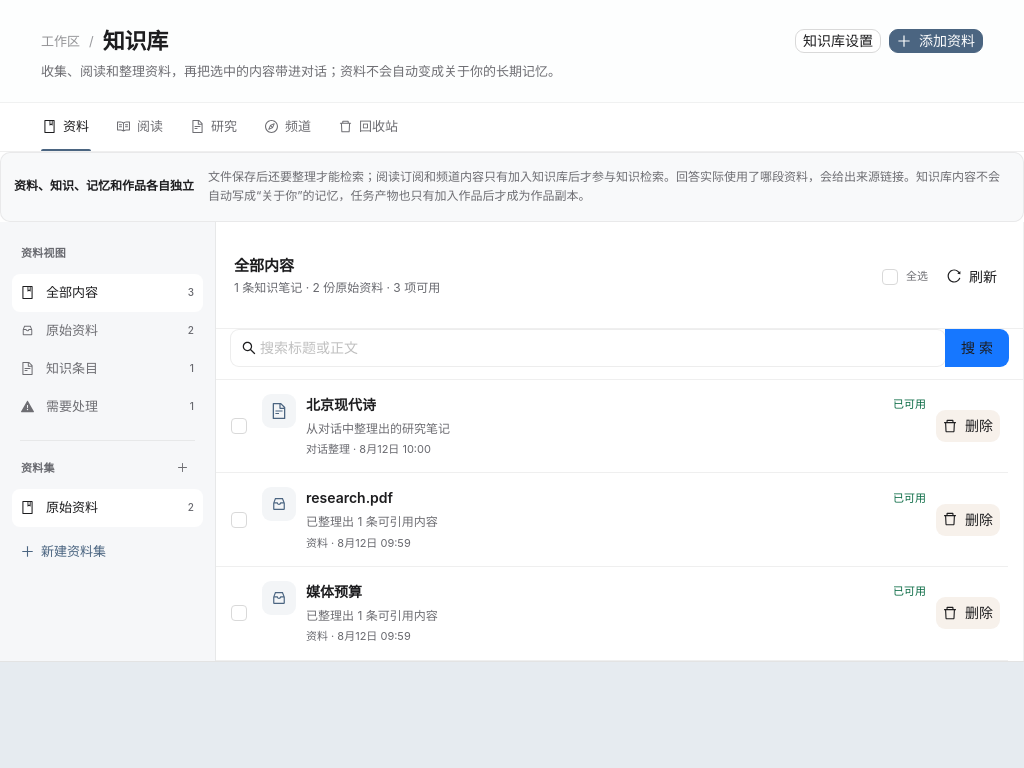
it: Knowledge workspace › does not offer a blind retry when a web import result is unknown
Click the button "添加资料" at coordinates (936, 41), box left=889, top=29, right=983, bottom=53
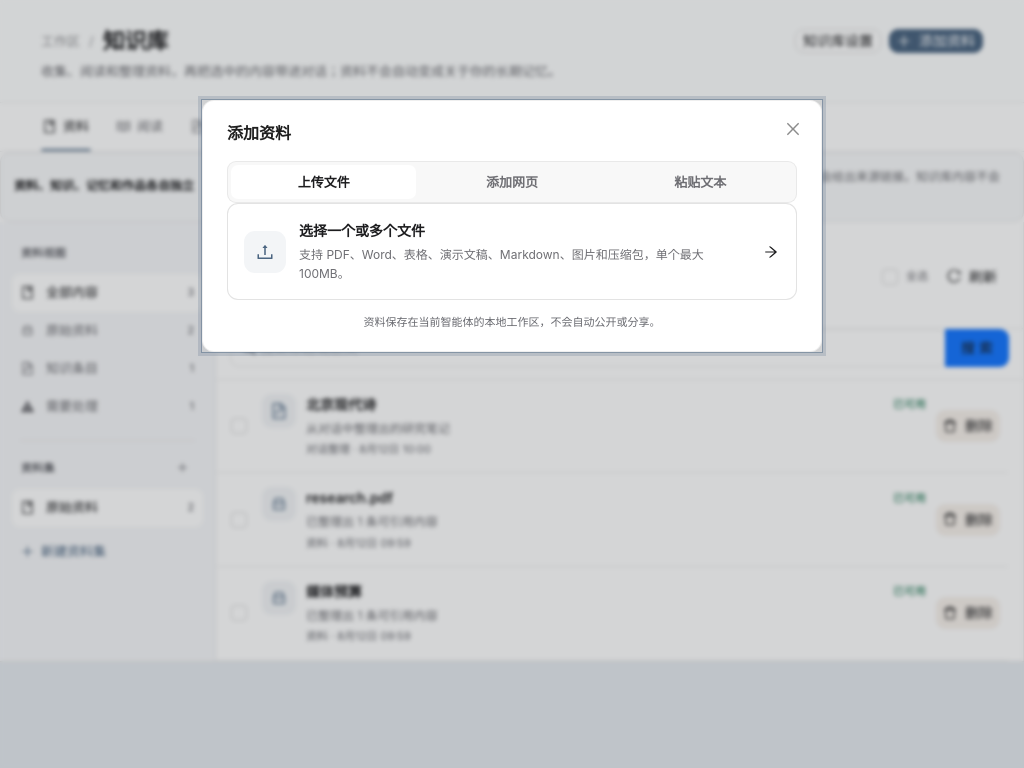
Click the tab "添加网页" at coordinates (512, 182), box left=419, top=165, right=605, bottom=199
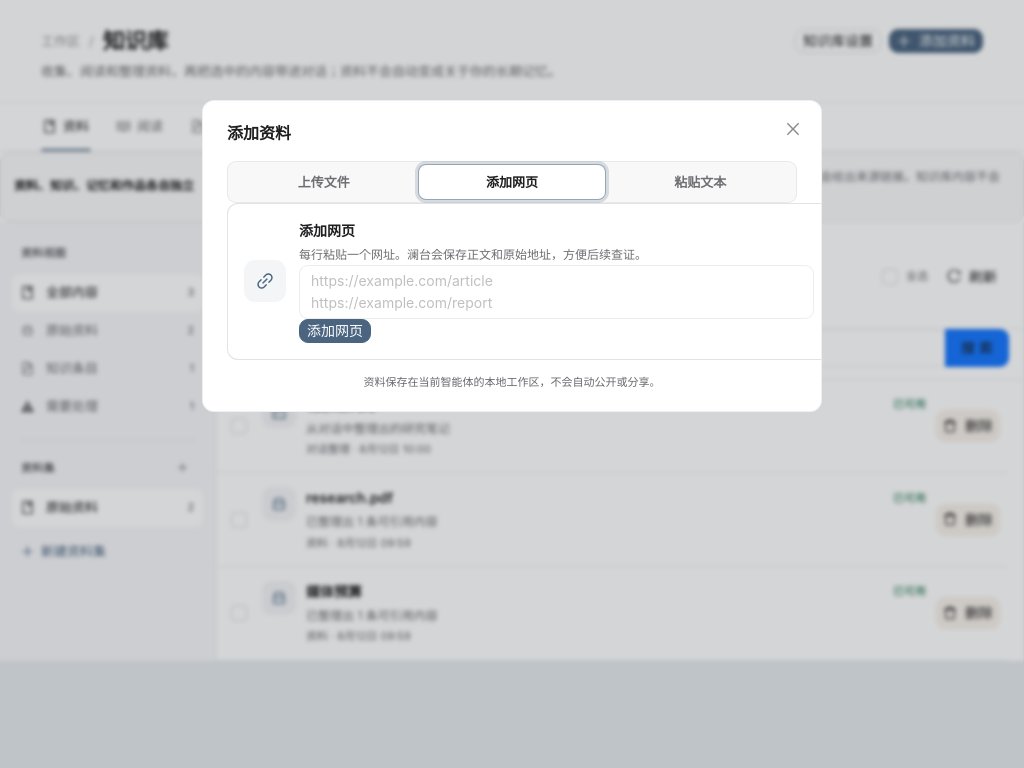
Type "https://example.com/uncertain" into the text box with placeholder "https://example.com/article https://example.com/report" at coordinates (556, 292), box left=299, top=265, right=814, bottom=319
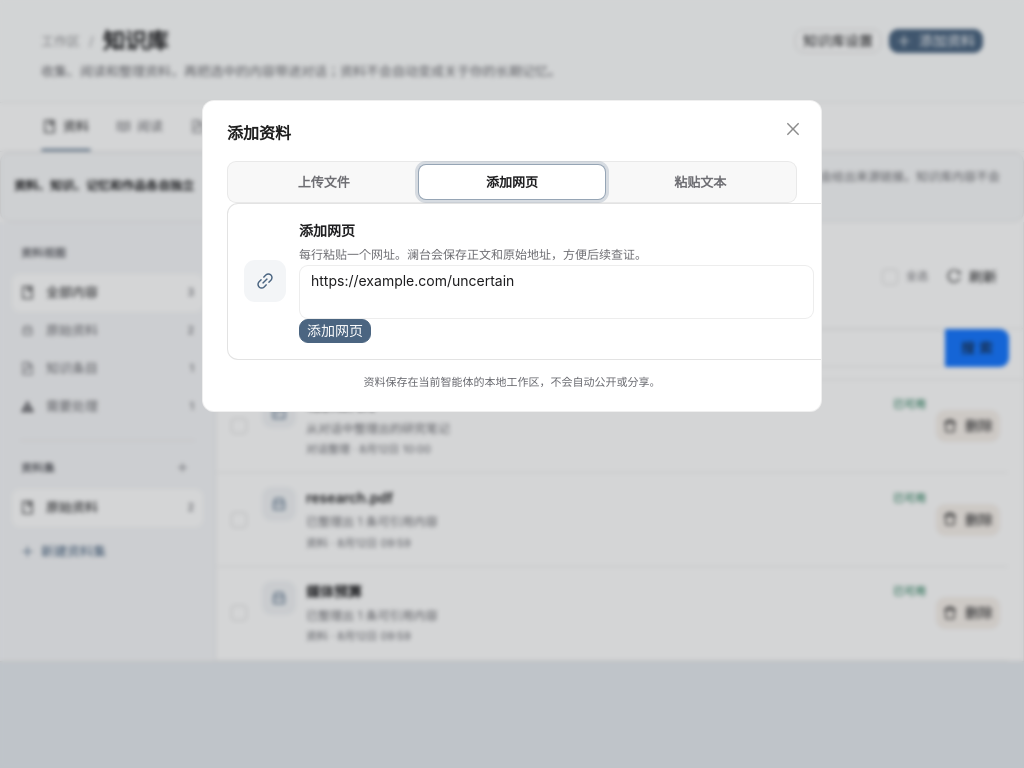
Click the button "添加网页" at coordinates (335, 331), box left=299, top=319, right=371, bottom=343
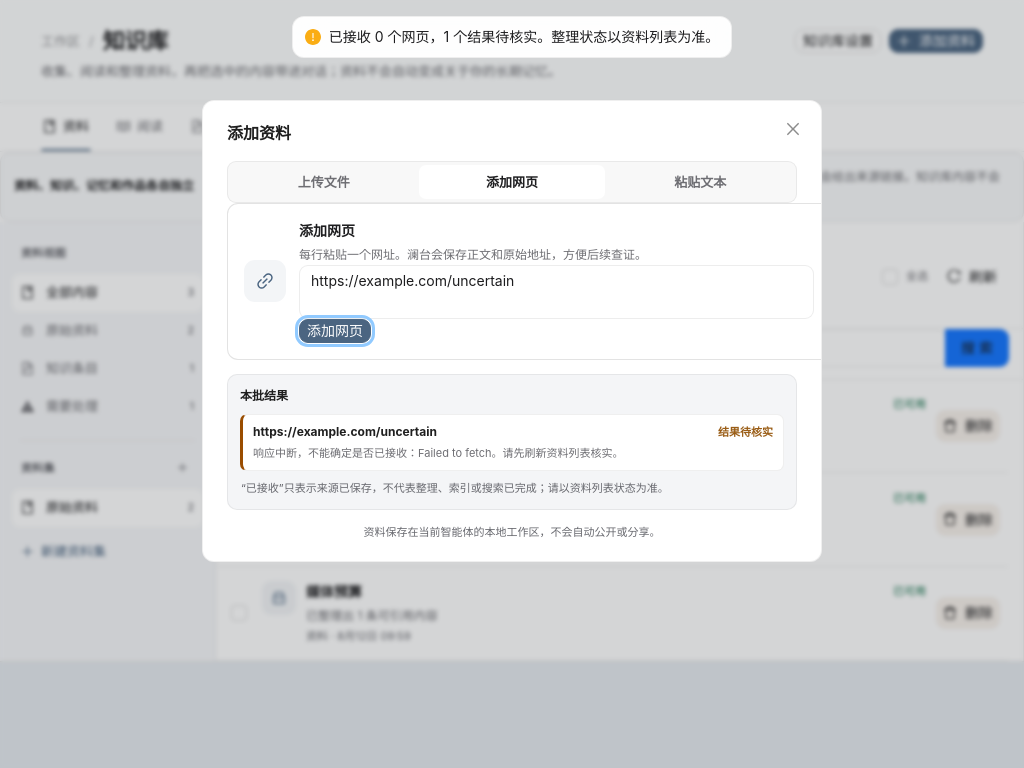
Expected: the text "结果待核实" is shown, left=718, top=424, right=773, bottom=442
Expected: the text "响应中断，不能确定是否已接收：Failed to fetch。请先刷新资料列表核实。" is shown, left=253, top=446, right=624, bottom=460
